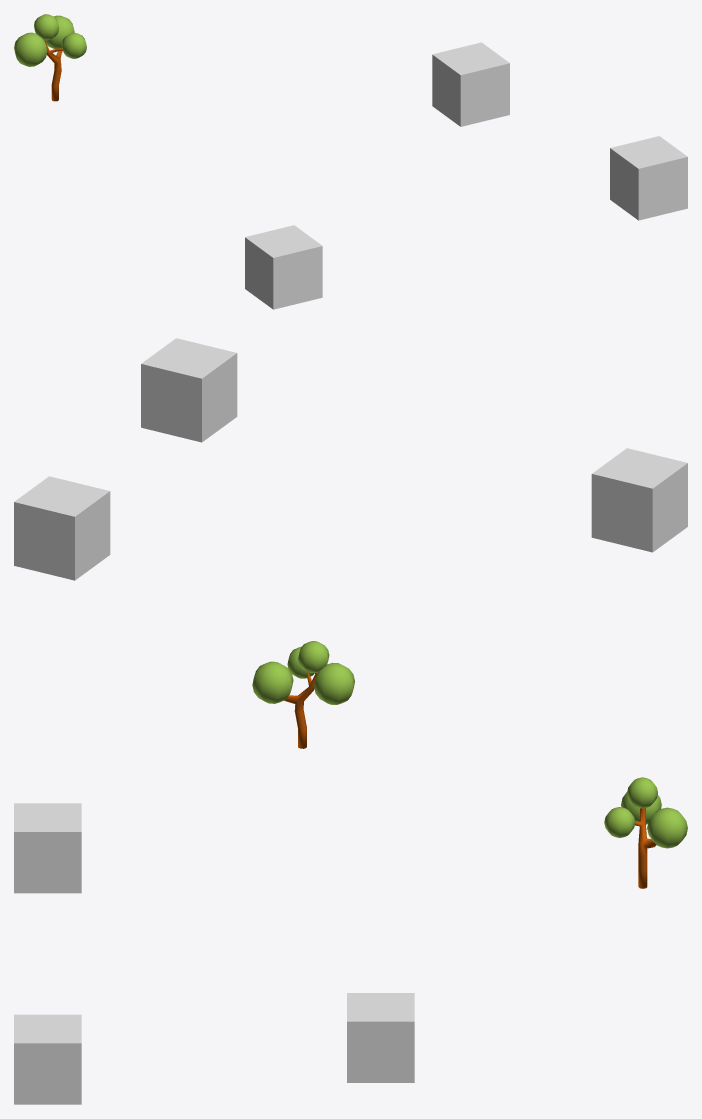
Rendered from world.glb.
3 views of the same model, one above another, from view 1: azimuth 30°, elevation 25°; view 2: azimuth 150°, elevation 25°; view 3: azimuth 270°, elevation 25° (orthographic). The views are drawn at different scales.
Visible parts, largest first — view 1: Cube, Cube.001, Cube.002, Low poly tree; view 2: Cube.001, Cube.002, Cube, Low poly tree; view 3: Cube, Cube.001, Cube.002, Low poly tree.
Boxes of the visible parts, x1,y1,x2,y2 form: Cube: (245, 225, 322, 309); Cube.001: (610, 136, 687, 220); Cube.002: (432, 42, 509, 126); Low poly tree: (14, 14, 86, 101); Cube.001: (141, 338, 237, 442); Cube.002: (14, 476, 110, 580); Cube: (591, 448, 687, 552); Low poly tree: (252, 641, 354, 748); Cube: (14, 803, 81, 893); Cube.001: (14, 1014, 81, 1104); Cube.002: (347, 993, 414, 1082); Low poly tree: (604, 777, 687, 888).
Bounding box in the file's own units: 35.77 × 7.51 × 42.47.
Materials: 4 (1 with a texture image).
